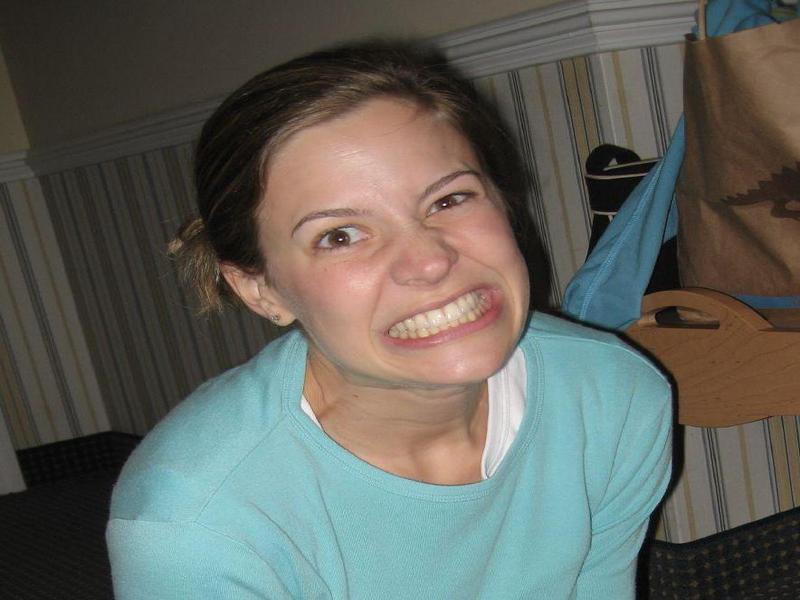person: (105, 43, 674, 600)
